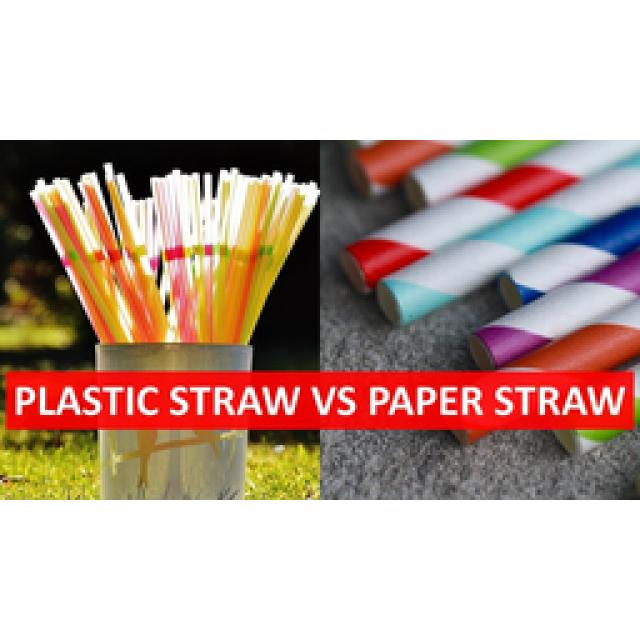plastic: (342, 140, 638, 418), (348, 140, 638, 368), (30, 165, 318, 342)
